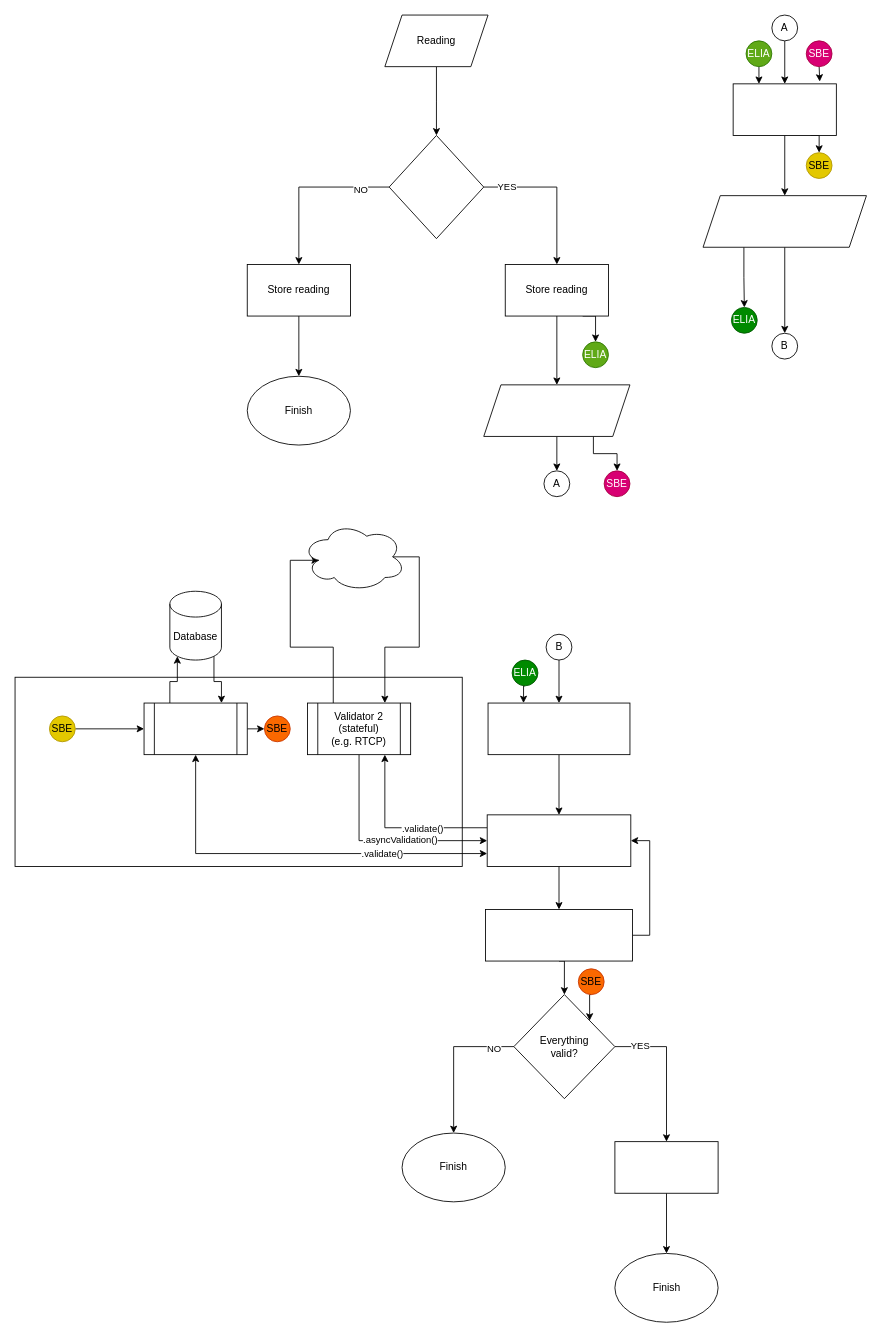
The diagram is 882 pixels wide and 1337 high, and some of its shapes have lost their labels. Here are the shapes that lost their labels. From the top down, the box of each, then its label:
(732, 83, 836, 135): Issue certificate
(388, 135, 484, 239): Is generator?
(702, 195, 866, 247): Certificate persisted event
(483, 384, 630, 436): Generation reading event
(301, 522, 405, 591): External API
(143, 702, 247, 755): Validator 1 (e.g. agreement)
(487, 702, 630, 755): Create energy block (pending validation)
(14, 676, 462, 866): STRATEGIES
(486, 814, 631, 866): Validate energy block
(485, 909, 633, 961): Store validation result for each validator
(614, 1141, 718, 1193): Transfer certificate
